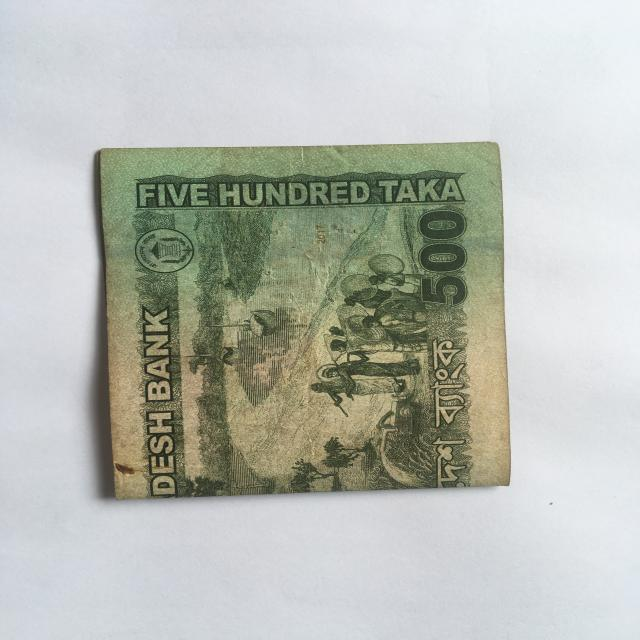Taka: (90, 140, 504, 493)
